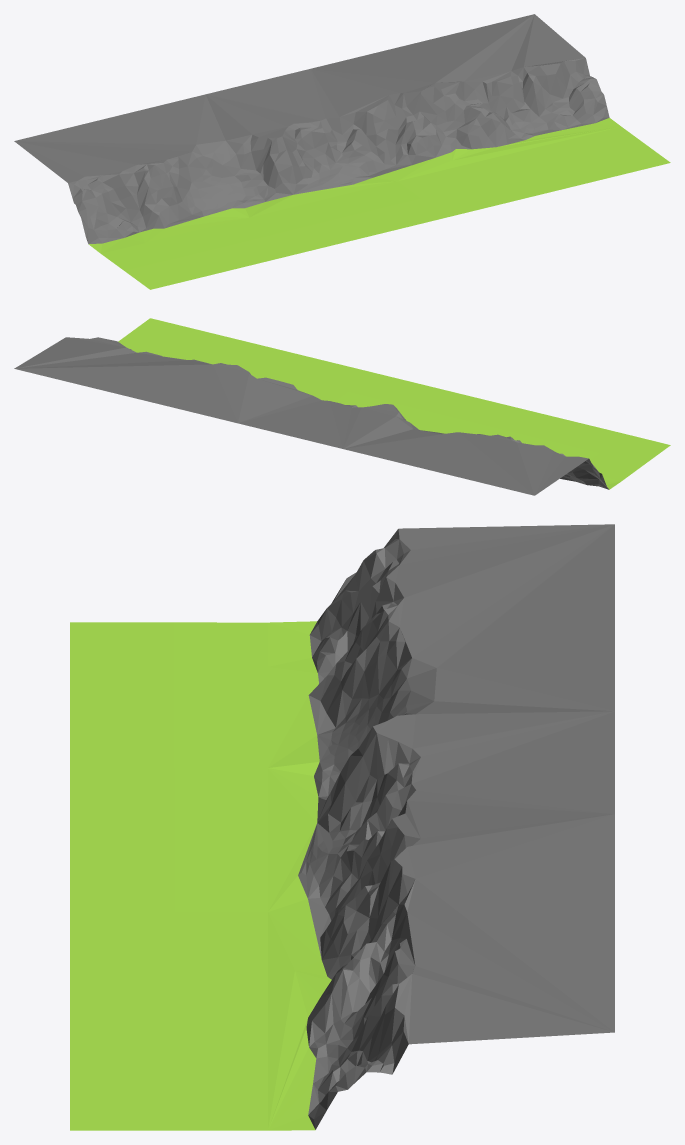
Rendered from Tereny3_Clif.fbx.
3 renders of one model, top to bottom at view 1: azimuth 30°, elevation 25°; view 2: azimuth 150°, elevation 25°; view 3: azimuth 270°, elevation 25°, orthographic. The views are drawn at different scales.
Visible parts, largest first — view 1: Landscape.005; view 2: Landscape.005; view 3: Landscape.005.
Part boxes in pixels (box(x1,y1,x2,y2)): Landscape.005: box(14, 14, 670, 289); Landscape.005: box(14, 318, 670, 495); Landscape.005: box(70, 524, 614, 1130).
Bounding box in the file's own units: 33066 × 3296 × 14972.
